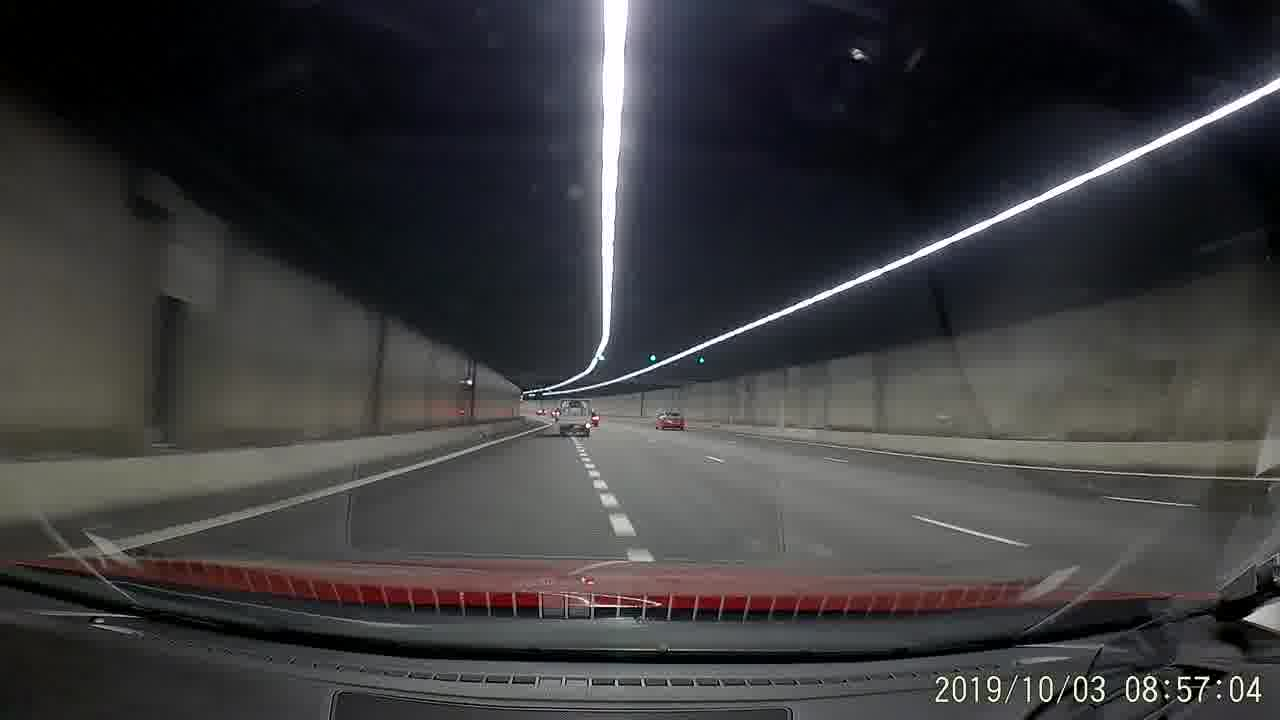car: (655, 411, 686, 429)
